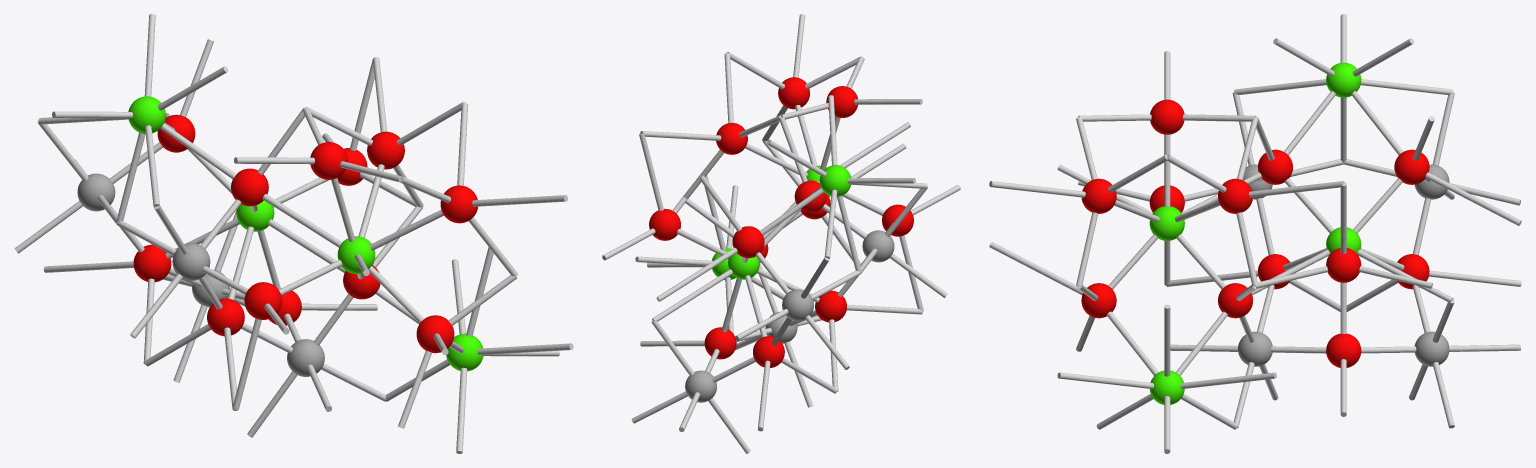
File: structure_mpstyle.glb
3 views of the same model, side by side, from view 1: azimuth 30°, elevation 25°; view 2: azimuth 150°, elevation 25°; view 3: azimuth 270°, elevation 25° (orthographic). The views are drawn at different scales.
Visible parts, largest first — view 1: world; view 2: world; view 3: world.
Part boxes in pixels (x1,y1,x2,y2): world: (14, 14, 573, 453); world: (602, 14, 960, 453); world: (989, 14, 1521, 453).
Bounding box in the file's own units: 10.01 × 8.76 × 12.1.
